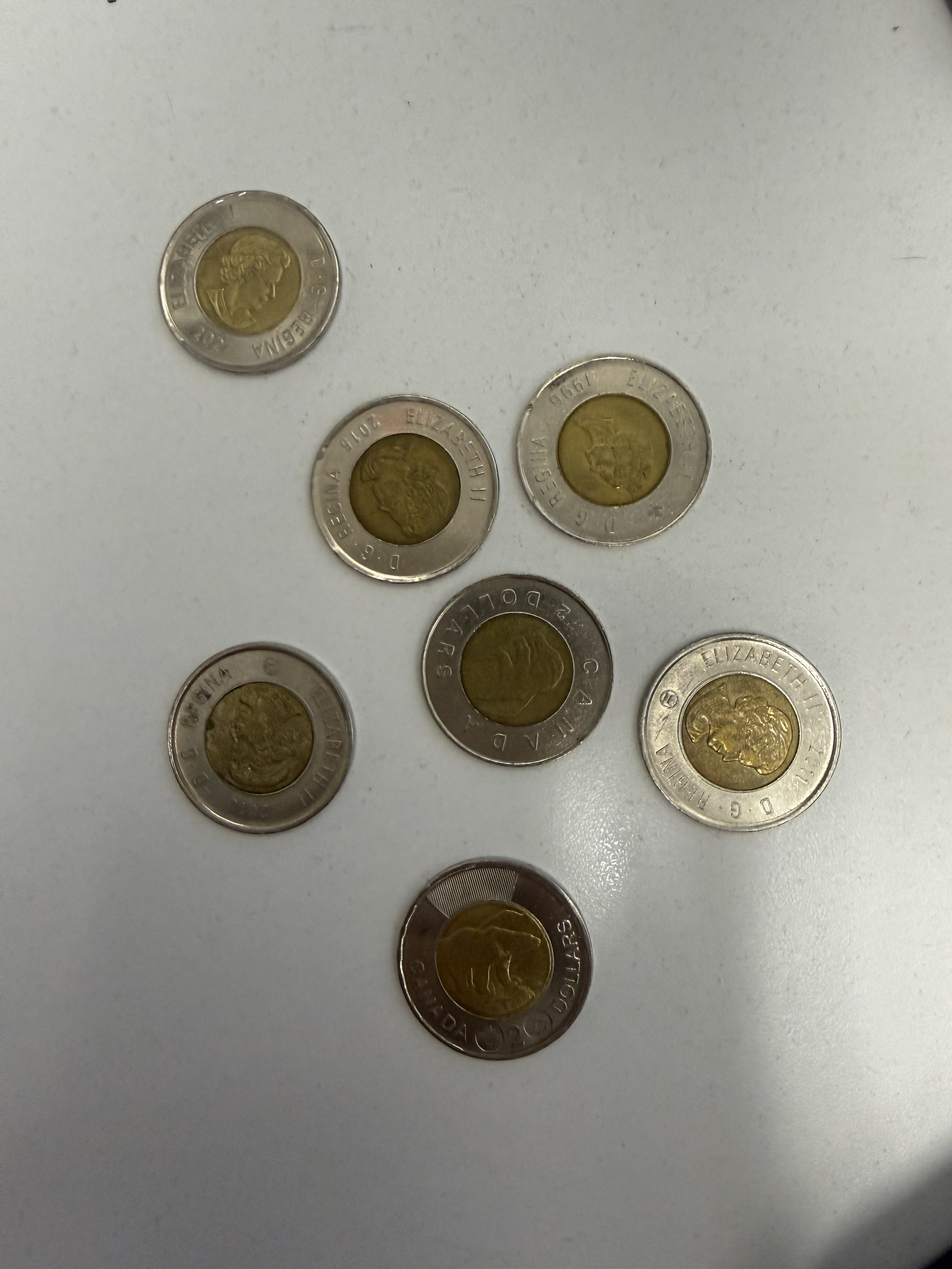coin: (640, 634, 840, 830), (399, 858, 592, 1059), (517, 356, 710, 544), (423, 575, 612, 765), (168, 644, 353, 832), (312, 396, 497, 582), (159, 191, 339, 372)
